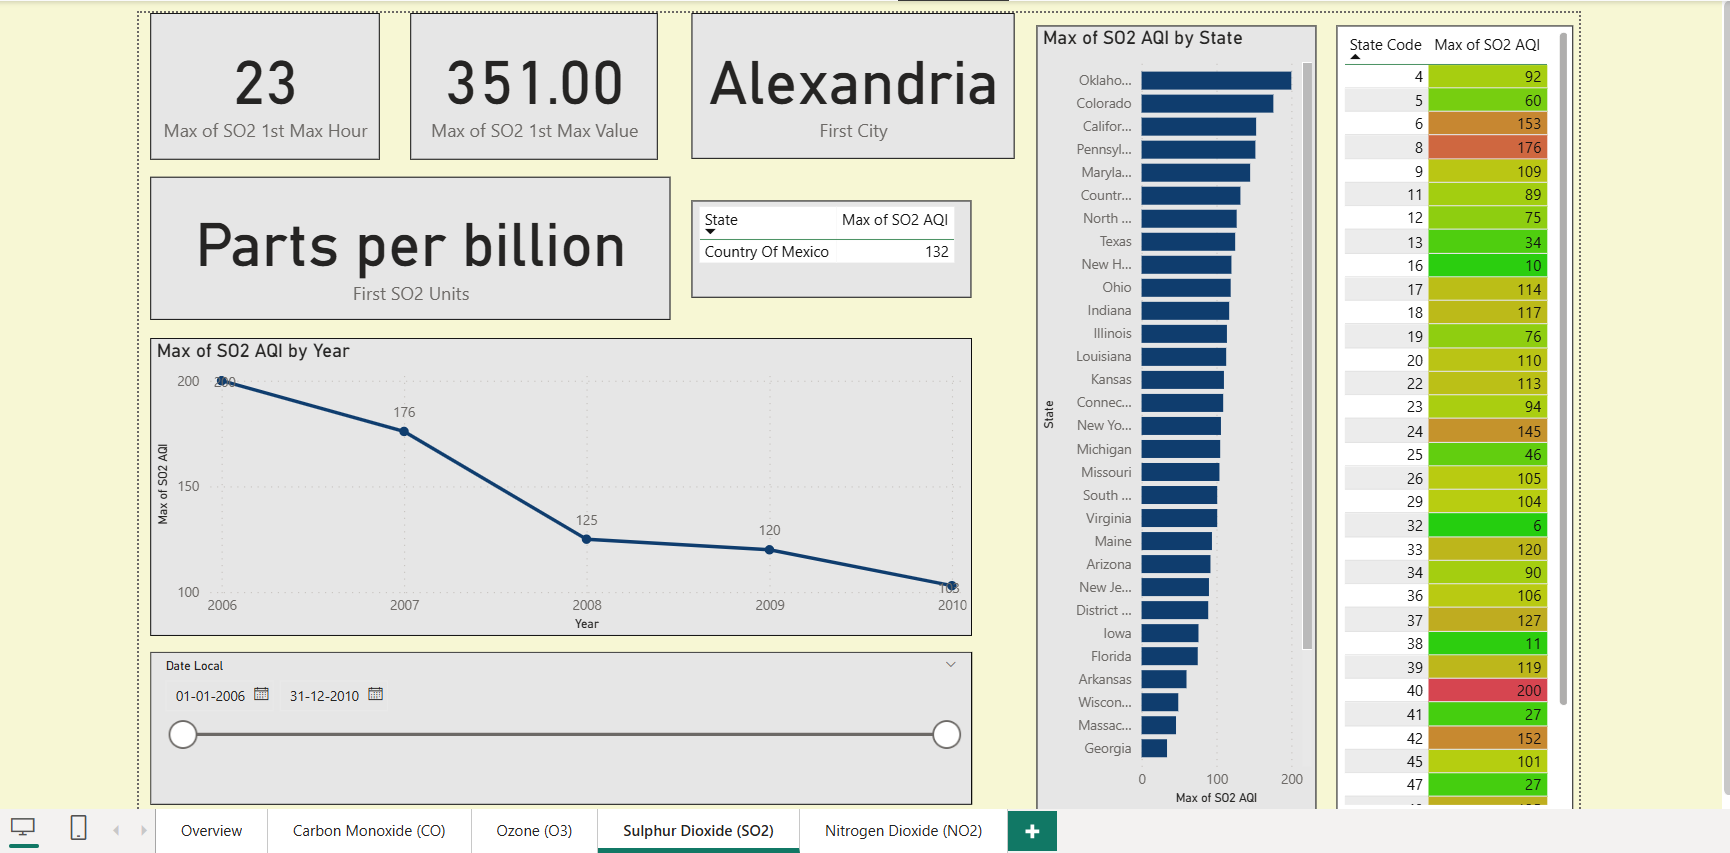

The dashboard page shown, as its layout file describes it:
{"tool":"powerbi","page":{"name":"Sulphur Dioxide (SO2)","canvas":[1280,720],"ordinal":3},"visuals":[{"type":"tableEx","fields":{"Values":["US Pollution 2006-2010.State Code","Max(US Pollution 2006-2010.SO2 AQI)"]},"box":[1064.4,11,210.4,697.2],"z":0},{"type":"card","fields":{"Values":["Max(US Pollution 2006-2010.SO2 1st Max Hour)"]},"box":[10,0,203.8,130],"z":1000},{"type":"card","fields":{"Values":["Max(US Pollution 2006-2010.SO2 1st Max Value)"]},"box":[241.2,0,220,130],"z":2000},{"type":"card","fields":{"Values":["Min(US Pollution 2006-2010.City)"]},"box":[491,0,287,129.4],"z":3000},{"type":"barChart","fields":{"Category":["US Pollution 2006-2010.State"],"Y":["Max(US Pollution 2006-2010.SO2 AQI)"]},"box":[797.6,11,248.9,697.2],"z":4000},{"type":"card","title":"O3 Units","fields":{"Values":["Min(US Pollution 2006-2010.SO2 Units)"]},"box":[10,145,462.5,127.5],"z":5000},{"type":"tableEx","fields":{"Values":["US Pollution 2006-2010.State","Max(US Pollution 2006-2010.SO2 AQI)"]},"box":[491.2,166.2,248.8,86.2],"z":6000},{"type":"lineChart","fields":{"Category":["US Pollution 2006-2010.Date Local.Variation.Date Hierarchy.Year"],"Y":["Max(US Pollution 2006-2010.SO2 AQI)"]},"box":[10,288.8,730,265],"z":7000},{"type":"slicer","fields":{"Values":["US Pollution 2006-2010.Date Local"]},"box":[10,567.5,730,136.2],"z":8000}]}

Visuals, with their boxes on the page's 1280x720 design canvas (x1, y1, x2, y2). These are canvas units, not pixel positions in the 1730x853 screenshot, which may show the page scaled, cropped or inside an application window:
tableEx - US Pollution 2006-2010.State Code x Max(US Pollution 2006-2010.SO2 AQI): 1064,11,1275,708
card - Max(US Pollution 2006-2010.SO2 1st Max Hour): 10,0,214,130
card - Max(US Pollution 2006-2010.SO2 1st Max Value): 241,0,461,130
card - Min(US Pollution 2006-2010.City): 491,0,778,129
barChart - US Pollution 2006-2010.State x Max(US Pollution 2006-2010.SO2 AQI): 798,11,1046,708
"O3 Units" card: 10,145,472,272
tableEx - US Pollution 2006-2010.State x Max(US Pollution 2006-2010.SO2 AQI): 491,166,740,252
lineChart - US Pollution 2006-2010.Date Local.Variation.Date Hierarchy.Year x Max(US Pollution 2006-2010.SO2 AQI): 10,289,740,554
slicer - US Pollution 2006-2010.Date Local: 10,568,740,704
